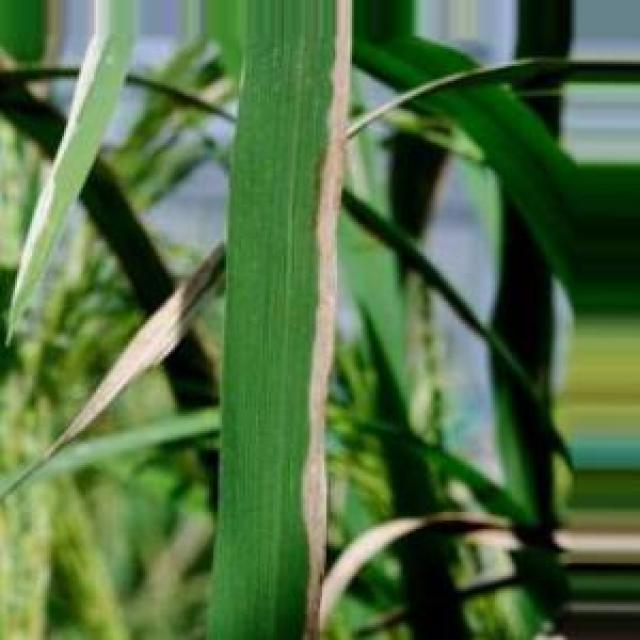Bacterial_Leaf_Blight: (2, 244, 223, 498), (302, 0, 351, 639), (321, 518, 424, 629)
